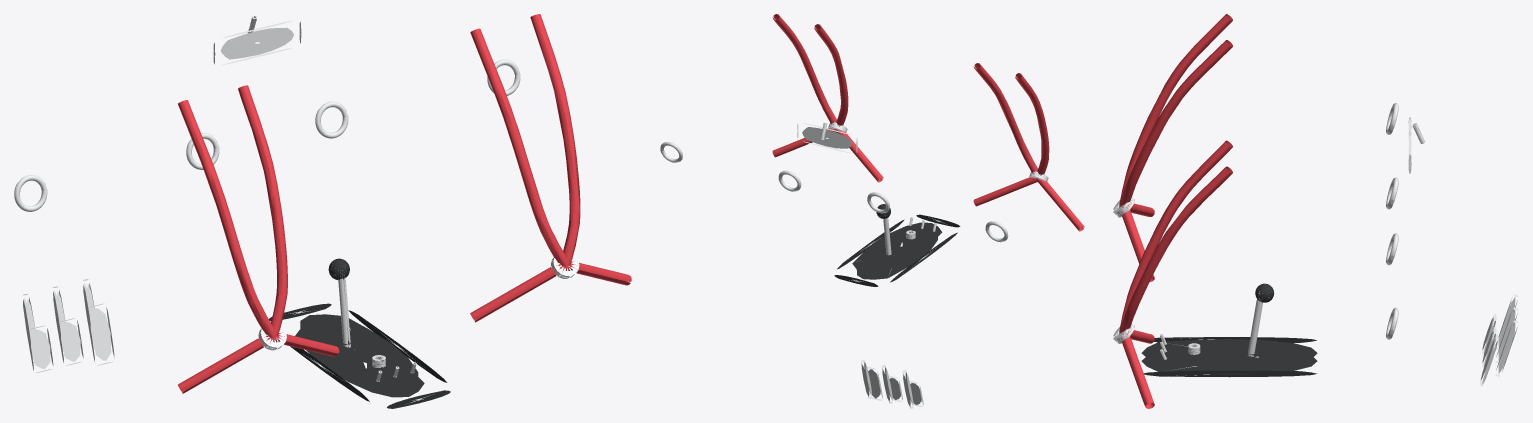
Rendered from cockpit_interior.glb.
The picture shows the model from 3 angles, left to right: view 1: azimuth 30°, elevation 25°; view 2: azimuth 150°, elevation 25°; view 3: azimuth 270°, elevation 25°; orthographic projection. The views are drawn at different scales.
Visible parts, largest first — view 1: SixPoint_Harness_Passenger, Center_Tunnel_Switch_Console, Drilled_Aluminum_Pedal_Box, SixPoint_Harness_Driver; view 2: SixPoint_Harness_Passenger, Center_Tunnel_Switch_Console, Drilled_Aluminum_Pedal_Box, SixPoint_Harness_Driver; view 3: SixPoint_Harness_Passenger, Center_Tunnel_Switch_Console, Drilled_Aluminum_Pedal_Box, SixPoint_Harness_Driver.
Part boxes in pixels (x1,y1,x2,y2): SixPoint_Harness_Passenger: (178,14,631,393); Center_Tunnel_Switch_Console: (269,258,450,408); Drilled_Aluminum_Pedal_Box: (14,15,520,381); SixPoint_Harness_Driver: (213,20,579,350); SixPoint_Harness_Passenger: (772,14,1084,231); Center_Tunnel_Switch_Console: (834,204,960,286); Drilled_Aluminum_Pedal_Box: (660,122,1008,408); SixPoint_Harness_Driver: (797,122,1048,182); SixPoint_Harness_Passenger: (1119,14,1232,408); Center_Tunnel_Switch_Console: (1141,283,1317,377); Drilled_Aluminum_Pedal_Box: (1160,103,1518,386); SixPoint_Harness_Driver: (1113,117,1411,343).
Size of the model in its own units: 1.18 by 0.8553 by 0.9209.
